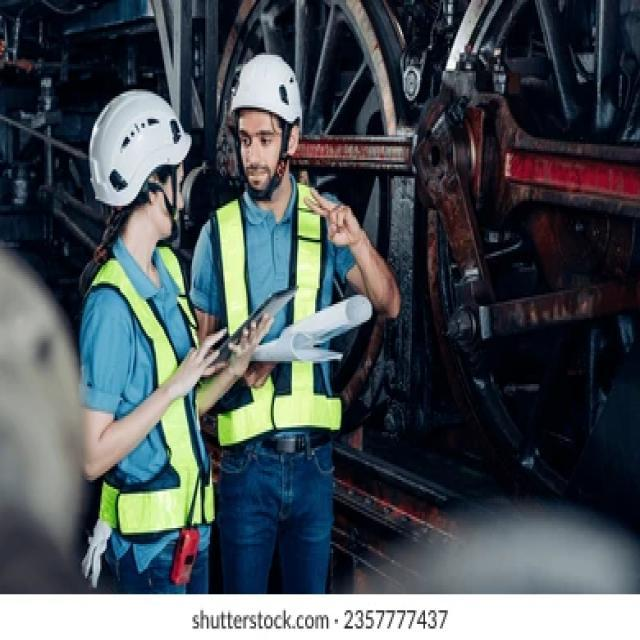bare_hand: (304, 189, 369, 253), (171, 328, 228, 395), (231, 311, 277, 381)
